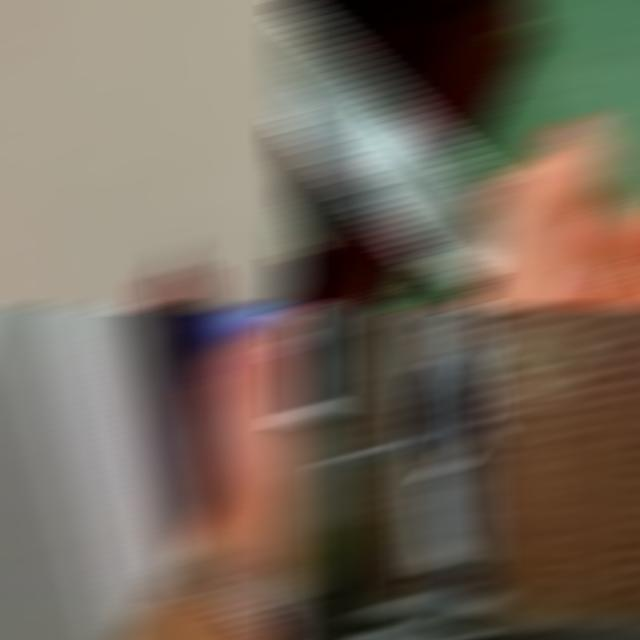Knife_Handle: (278, 2, 640, 304), (194, 310, 298, 638), (138, 242, 220, 304), (426, 443, 476, 477)
